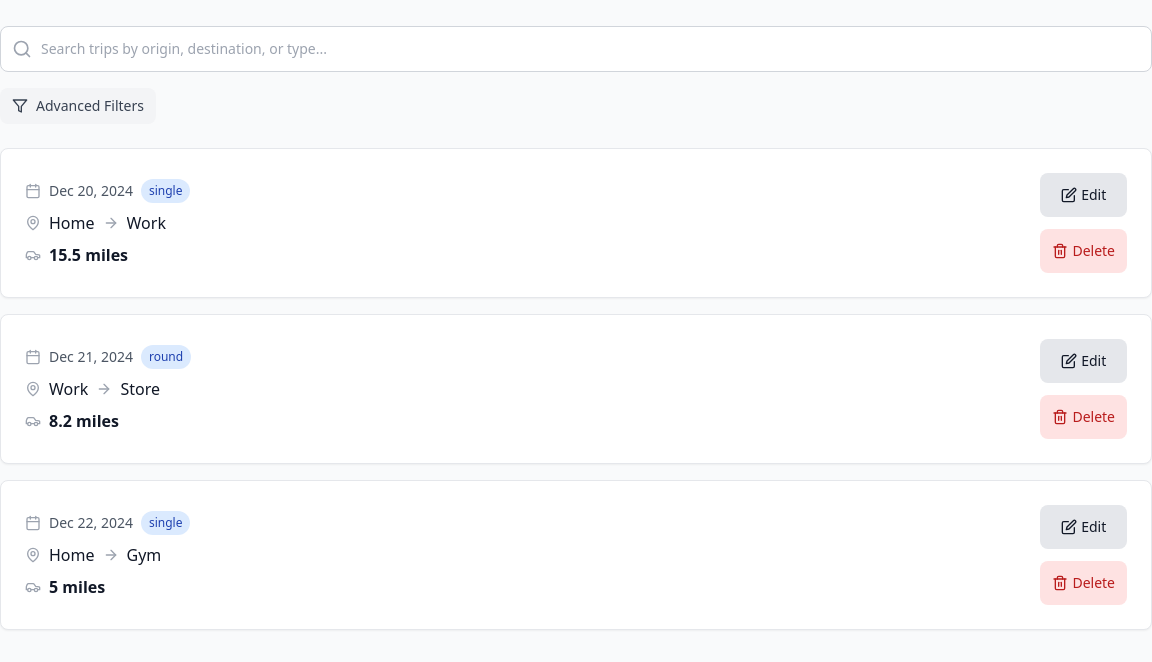
Test: Trips › Search and Filtering › filters trips by trip type
Click the button "Advanced Filters" at [78, 106], box [0, 88, 156, 124]
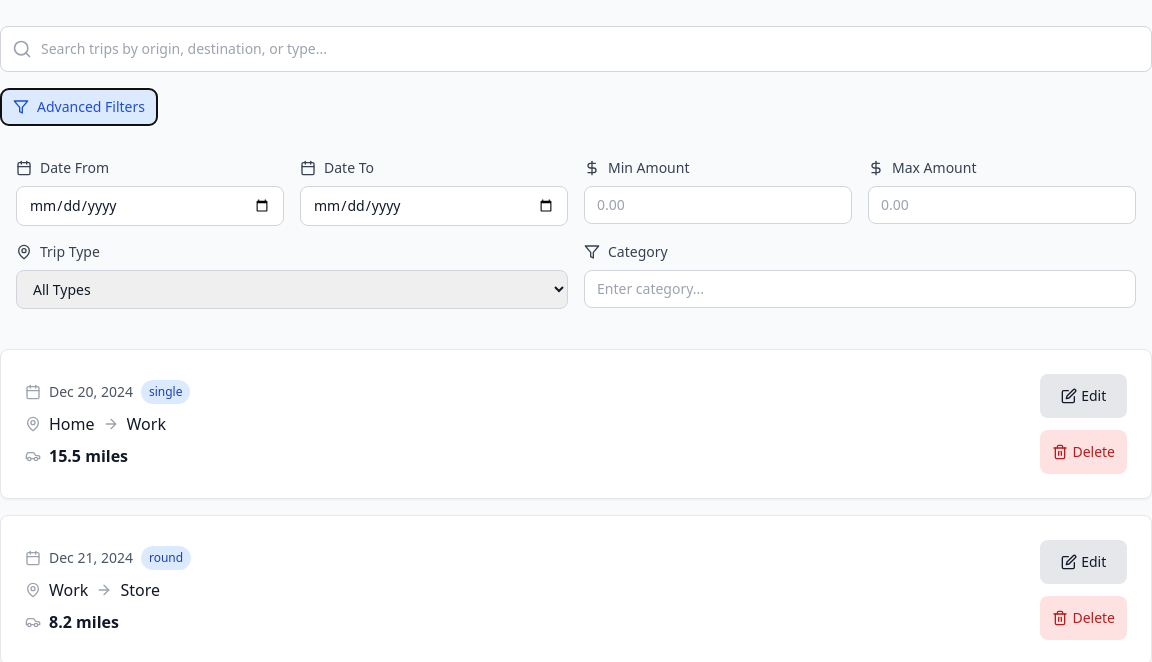
Select "Single Trip" in the dropdown labelled "Trip Type" at [292, 290], box [16, 270, 568, 309]
(page scrolled)
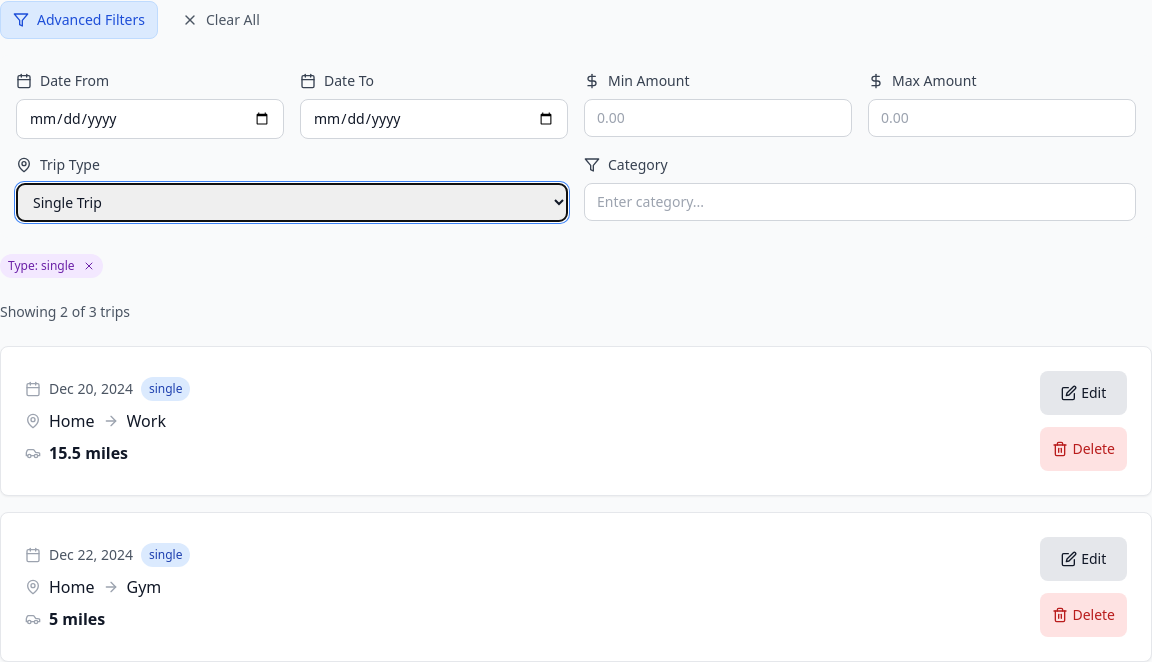
Now the text "Showing 2 of 3 trips" is shown, box [0, 302, 130, 322]
Now the text "Gym" is shown, box [126, 575, 161, 599]
Now the text "Store" is gone
